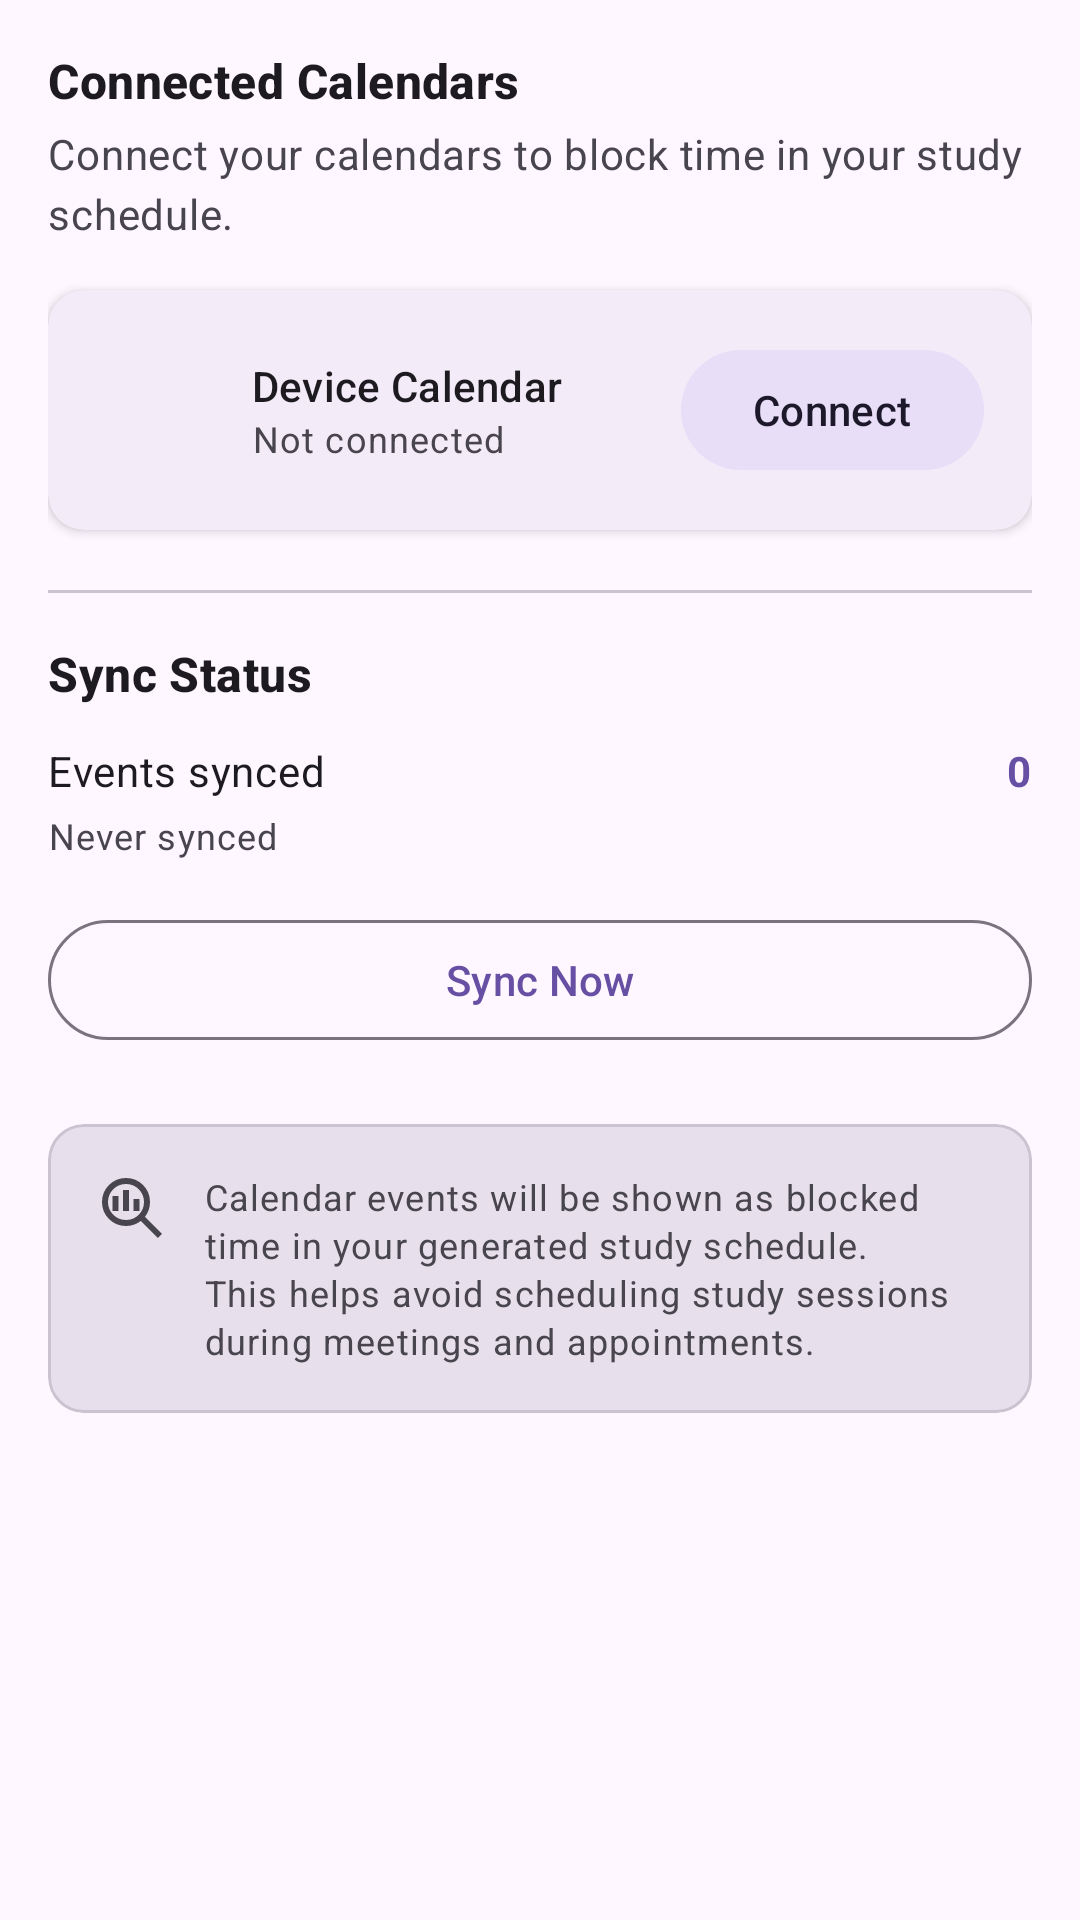

Icons on this 1080w x 1920h Android screen, each with its box as (x1, y1, x2, y2):
insights: (102, 1178, 162, 1238)
